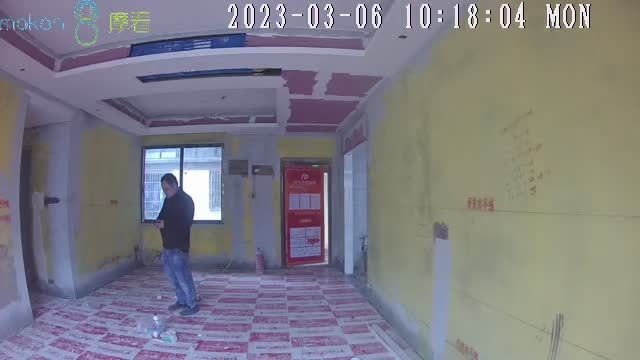people: (154, 172, 198, 315)
window: (141, 145, 222, 223)
